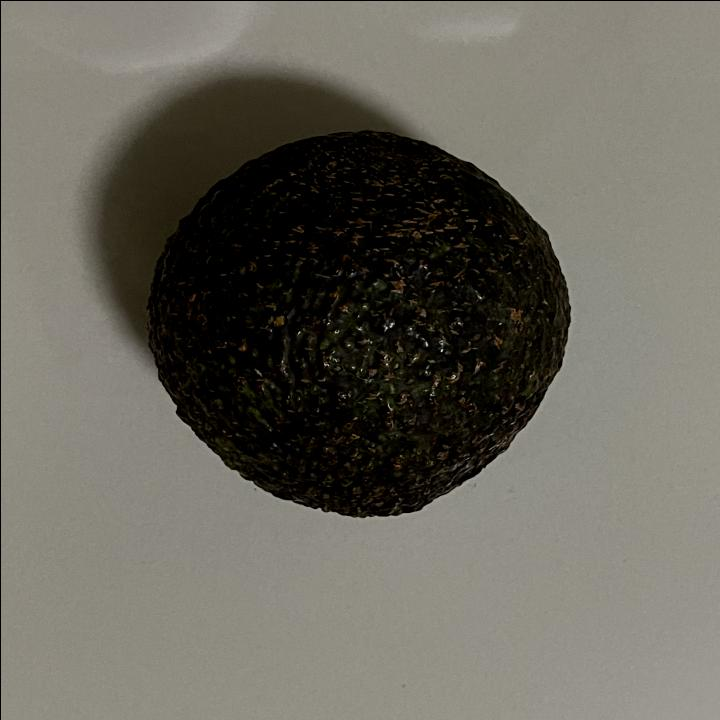Level1: (131, 121, 593, 534)
